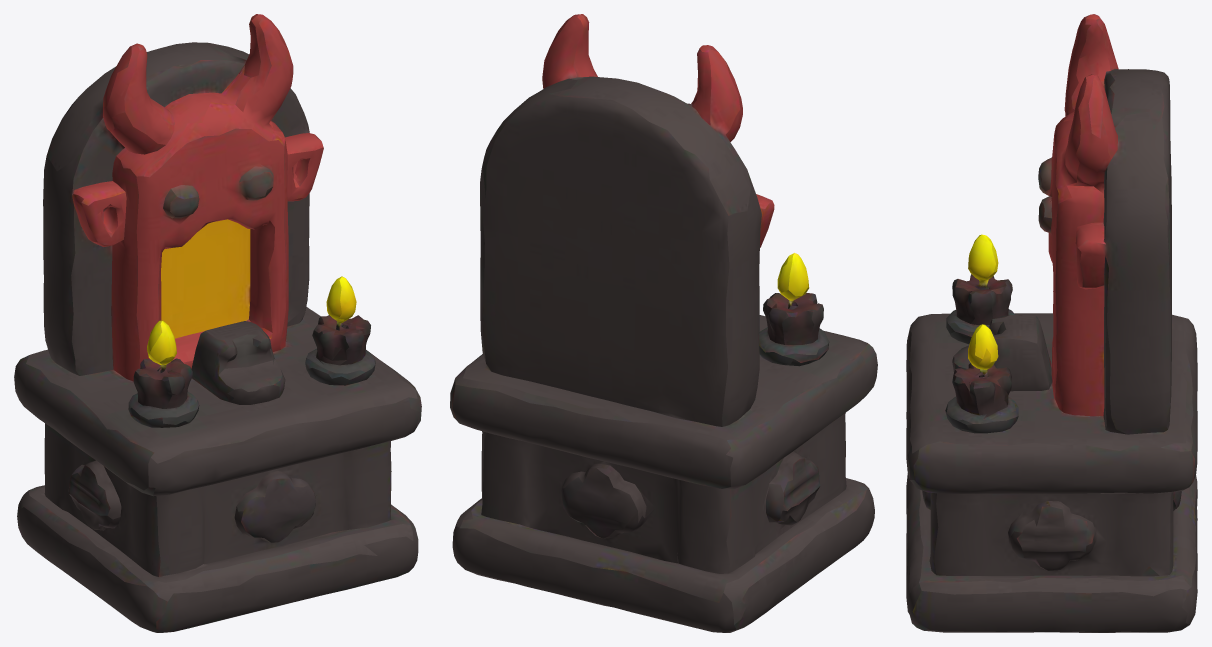
The model's file is a-small-dark-shrine-with-a-red-h-135e1c.glb.
3 renders of one model, left to right at view 1: azimuth 30°, elevation 25°; view 2: azimuth 150°, elevation 25°; view 3: azimuth 270°, elevation 25°, orthographic. The views are drawn at different scales.
Visible parts, largest first — view 1: geometry_0; view 2: geometry_0; view 3: geometry_0.
Part boxes in pixels (x1,y1,x2,y2): geometry_0: [14, 14, 421, 632]; geometry_0: [450, 14, 877, 632]; geometry_0: [906, 14, 1197, 632].
Bounding box in the file's own units: 0.5784 × 1 × 0.5026.
1 material, 1 textured.
